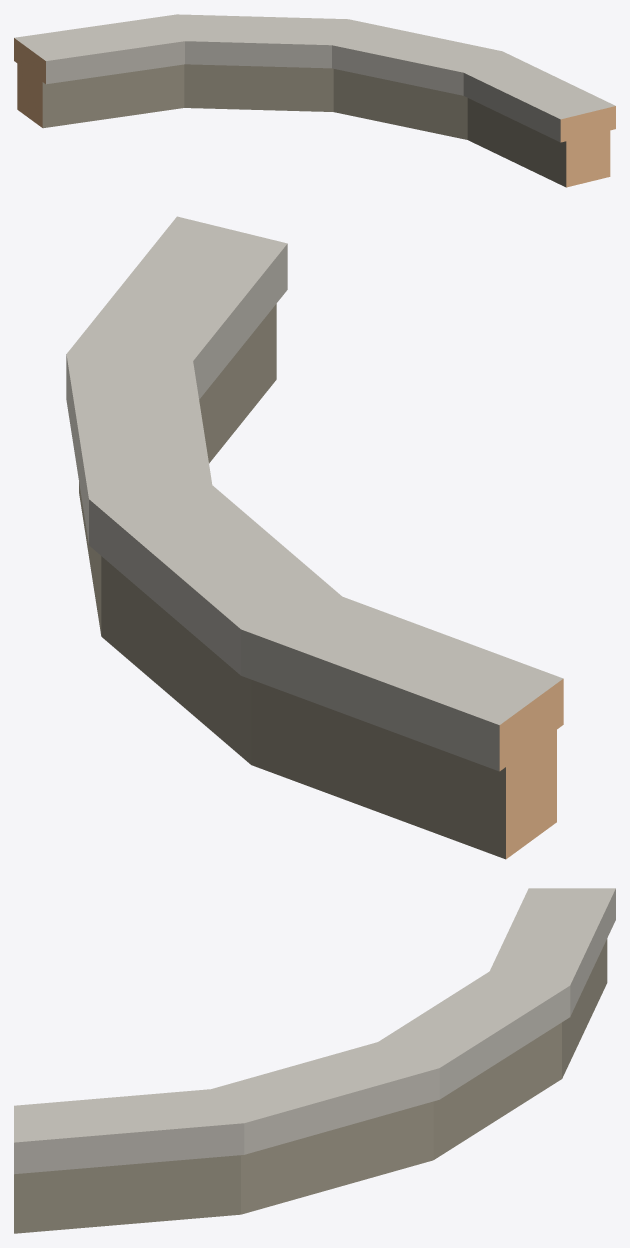
Rendered from Tiered_Retaining_Wall_Flat_Curve_2x2_Top.glb.
The picture shows the model from 3 angles, top to bottom: view 1: azimuth 30°, elevation 25°; view 2: azimuth 150°, elevation 25°; view 3: azimuth 270°, elevation 25°; orthographic projection. The views are drawn at different scales.
Parts seen in each view (by area): view 1: Tiered_Retaining_Wall_Flat_Curve_2x2_Top; view 2: Tiered_Retaining_Wall_Flat_Curve_2x2_Top; view 3: Tiered_Retaining_Wall_Flat_Curve_2x2_Top.
Boxes of the visible parts, x1=… form: Tiered_Retaining_Wall_Flat_Curve_2x2_Top: x1=14, y1=14, x2=615, y2=187; Tiered_Retaining_Wall_Flat_Curve_2x2_Top: x1=66, y1=216, x2=563, y2=859; Tiered_Retaining_Wall_Flat_Curve_2x2_Top: x1=14, y1=888, x2=615, y2=1233.
Bounding box in the file's own units: 216 × 37.5 × 216.
